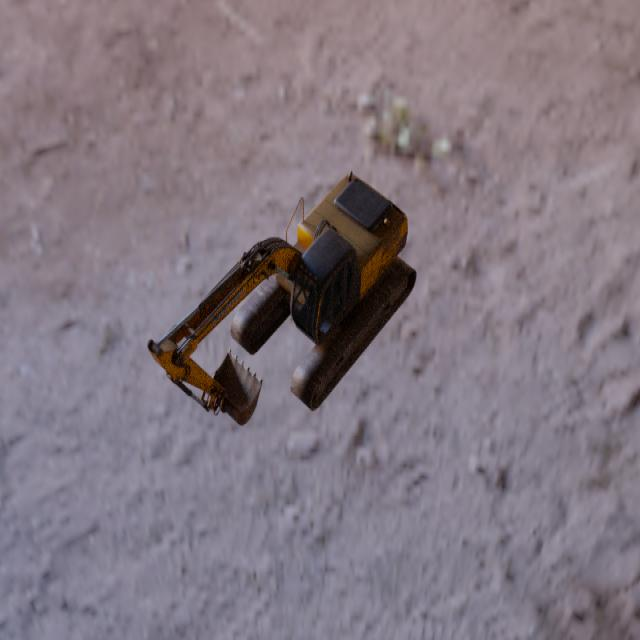excavator: (146, 170, 417, 426)
